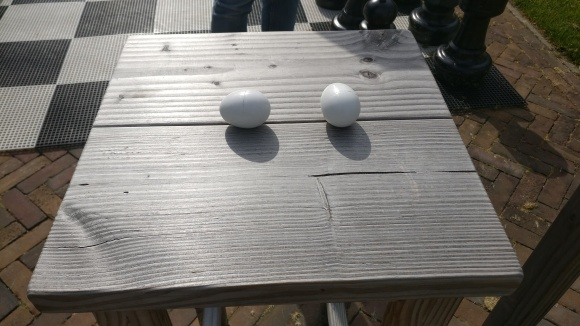egg: (219, 88, 272, 129), (320, 81, 362, 128)
